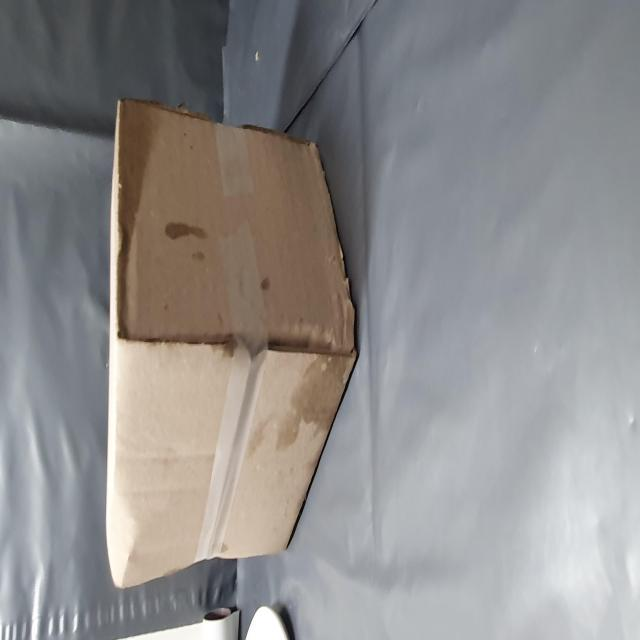wet: (103, 484, 184, 637), (164, 200, 306, 285)
